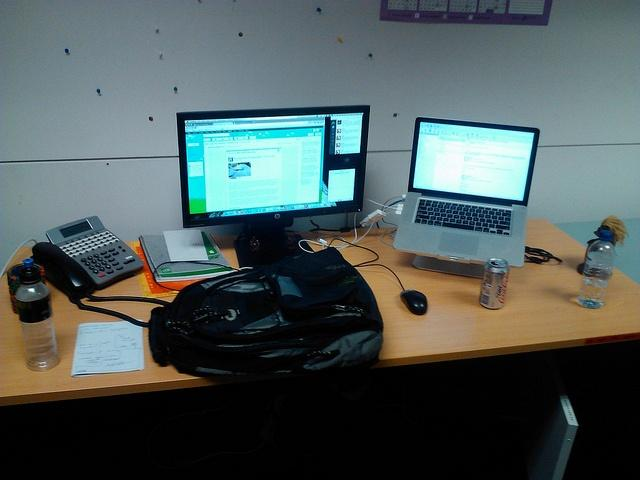Kursi: (175, 104, 369, 229)
Meja: (0, 216, 639, 409)
